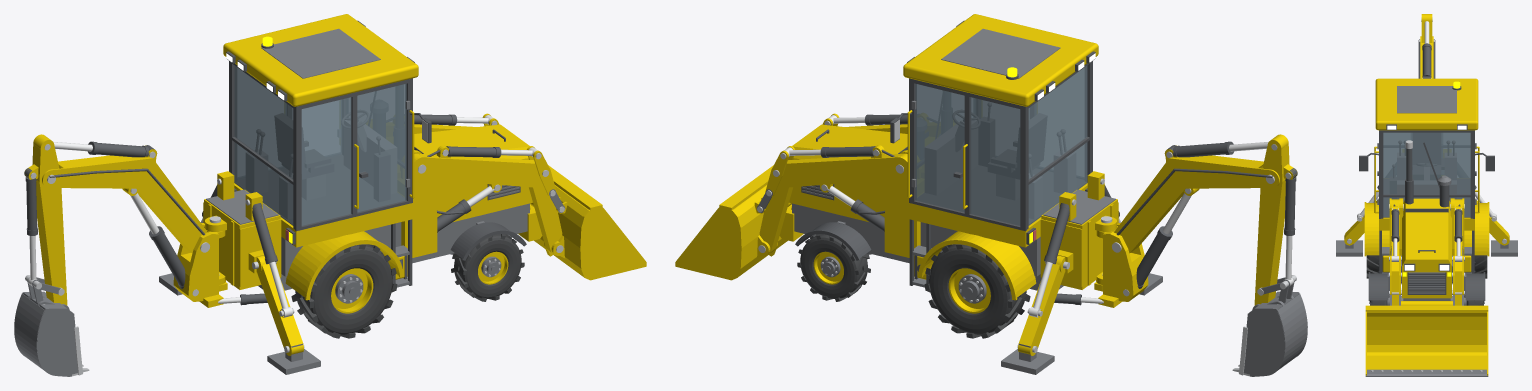
File: backhoe-loader-cad.glb
The picture shows the model from 3 angles, left to right: view 1: azimuth 30°, elevation 25°; view 2: azimuth 150°, elevation 25°; view 3: azimuth 270°, elevation 25°; orthographic projection. The views are drawn at different scales.
Visible parts, largest first — view 1: rear_rim_L, steering_cylinder, cab_glass, rear_hub_L, rear_tyre_L, steering_cylinder_rods, rear_wheel_nuts_L; view 2: rear_rim_L, steering_cylinder, rear_hub_L, cab_glass, rear_tyre_L, steering_cylinder_rods, rear_wheel_nuts_L; view 3: rear_rim_L, steering_cylinder, rear_hub_L, cab_glass, rear_tyre_L, steering_cylinder_rods, rear_wheel_nuts_L, work_lights.
Part boxes in pixels (x1,y1,x2,y2): rear_rim_L: (24,14,646,355); steering_cylinder: (24,20,526,305); cab_glass: (234,65,406,265); rear_hub_L: (14,28,565,376); rear_tyre_L: (291,234,524,338); steering_cylinder_rods: (28,115,537,317); rear_wheel_nuts_L: (25,119,564,376); rear_rim_L: (675,14,1297,355); steering_cylinder: (795,20,1297,305); rear_hub_L: (756,28,1307,376); cab_glass: (915,65,1087,225); rear_tyre_L: (797,234,1030,338); steering_cylinder_rods: (784,115,1293,317); rear_wheel_nuts_L: (757,119,1296,376); rear_rim_L: (1344,14,1509,375); steering_cylinder: (1359,39,1494,300); rear_hub_L: (1336,86,1517,376); cab_glass: (1383,132,1470,217); rear_tyre_L: (1366,255,1487,305); steering_cylinder_rods: (1357,21,1496,290); rear_wheel_nuts_L: (1347,17,1506,371); work_lights: (1387,125,1466,270).
Bounding box in the file's own units: 8.92 × 3.81 × 3.4.
